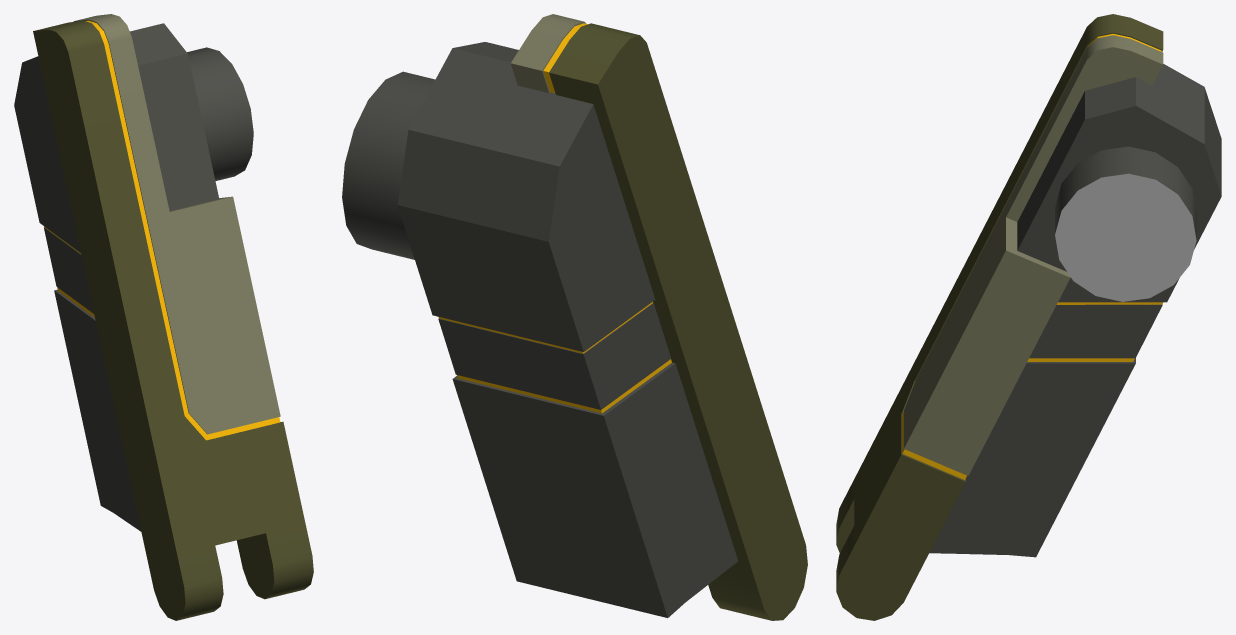
The model's file is Bot_L_LegTop.fbx.
3 views of the same model, side by side, from view 1: azimuth 30°, elevation 25°; view 2: azimuth 150°, elevation 25°; view 3: azimuth 270°, elevation 25° (orthographic). The views are drawn at different scales.
Parts seen in each view (by area): view 1: L_LegTop; view 2: L_LegTop; view 3: L_LegTop.
Part boxes in pixels (x1,y1,x2,y2): L_LegTop: [14, 14, 313, 620]; L_LegTop: [342, 14, 807, 620]; L_LegTop: [836, 14, 1221, 620].
Bounding box in the file's own units: 1532 × 4330 × 2802.
